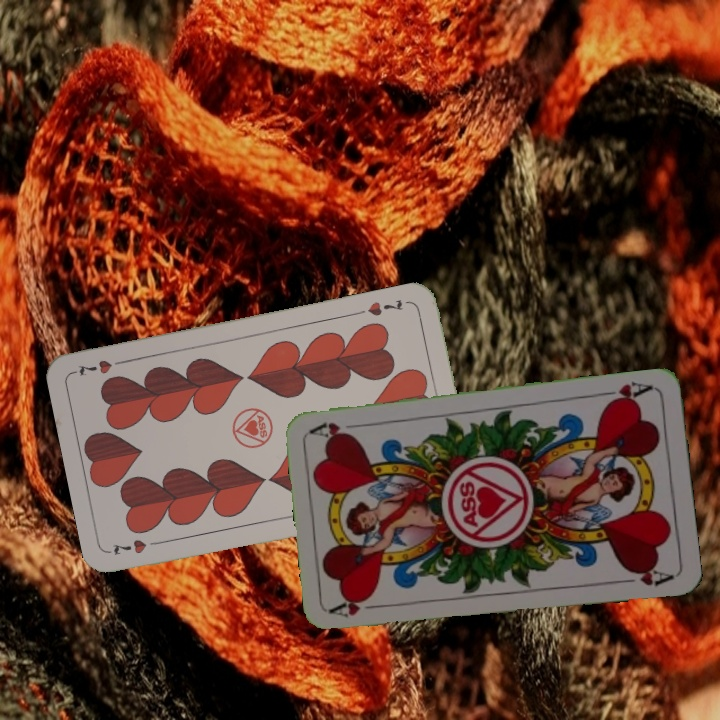H7: (107, 535, 165, 558), (354, 295, 405, 319)
HA: (597, 377, 656, 408), (328, 593, 387, 620)
